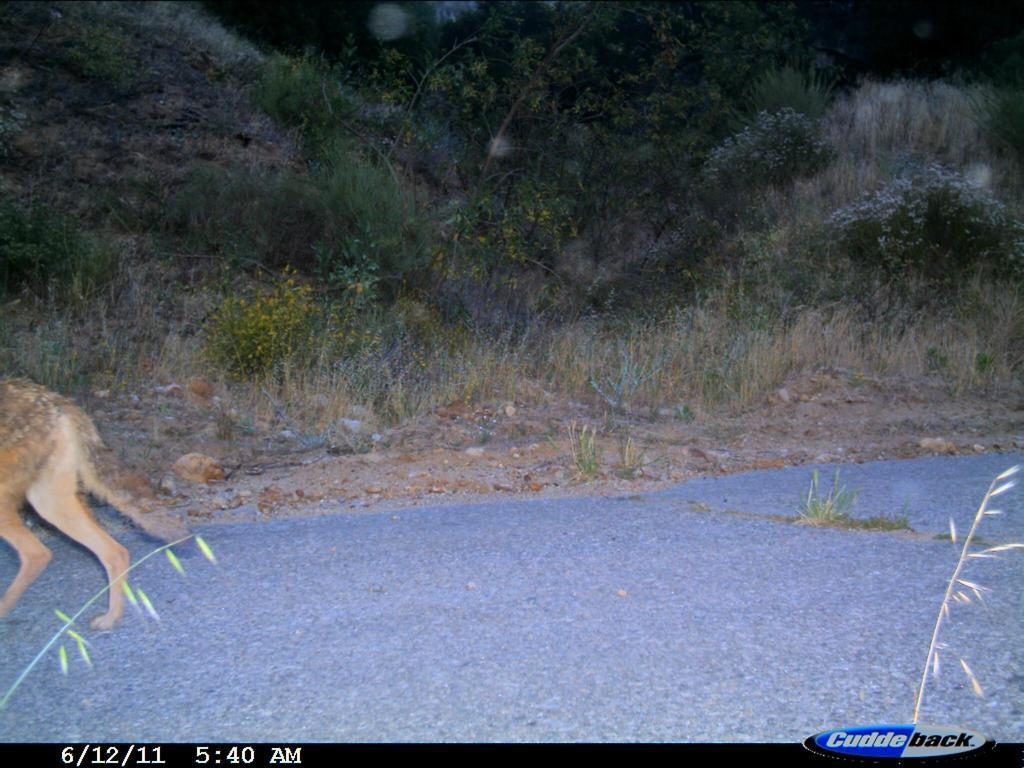coyote: (9, 355, 206, 646)
